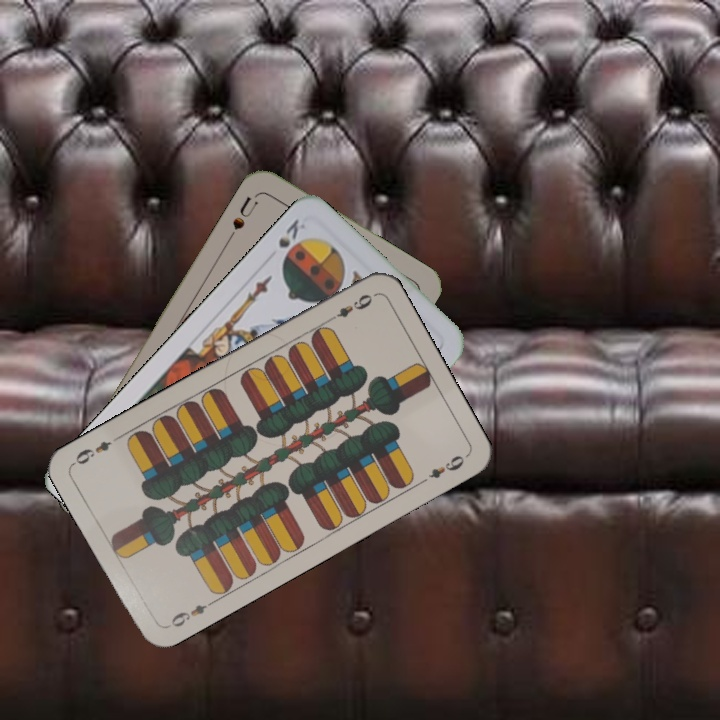E9: (162, 596, 217, 631), (323, 290, 375, 324)
SK: (274, 214, 309, 251)
SU: (224, 192, 262, 243)
